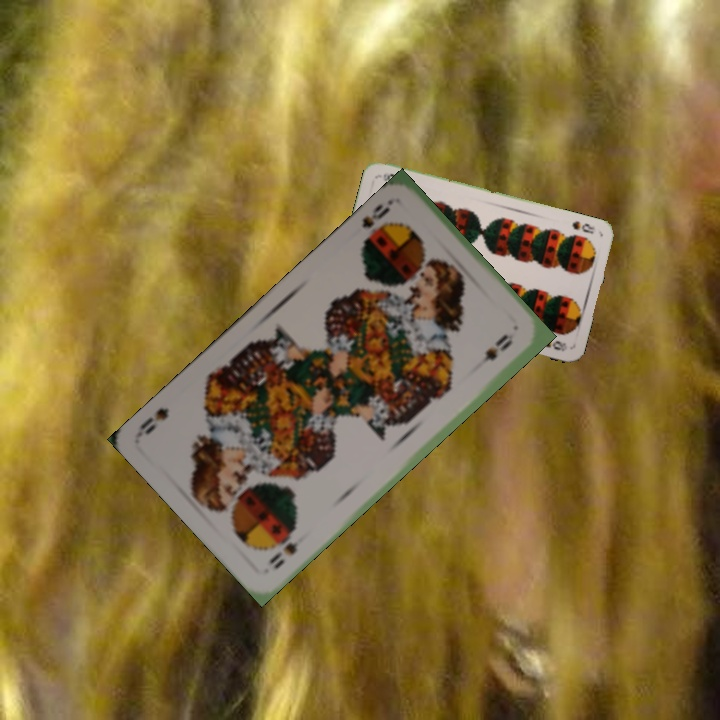S8: (568, 217, 598, 236)
SO: (358, 195, 396, 249), (265, 537, 300, 572)
